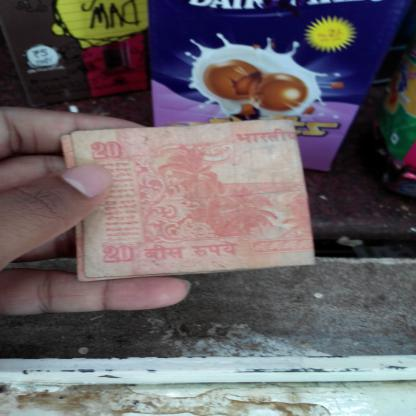Old20Back: (72, 124, 308, 270)
